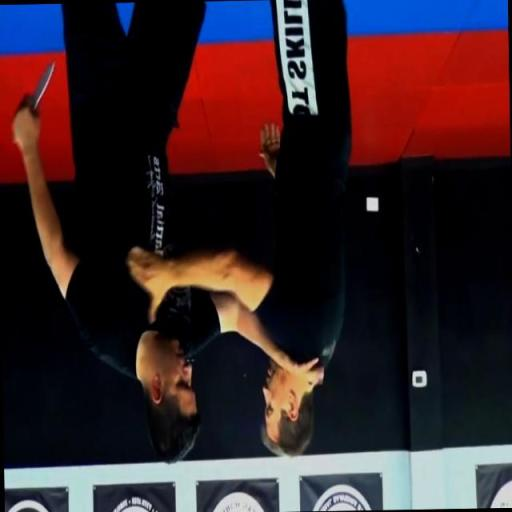knife: (4, 56, 58, 150)
